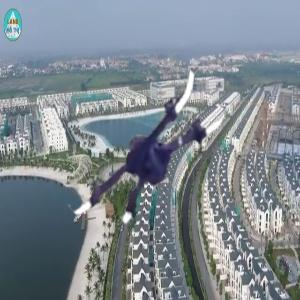drone: (48, 51, 233, 236)
